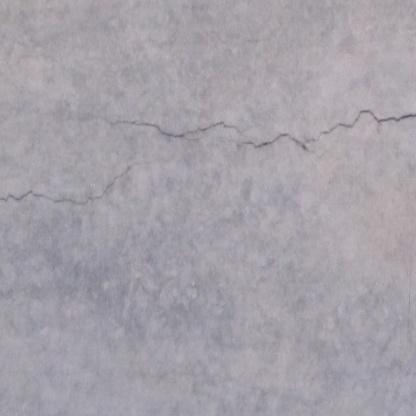Cracks: (0, 166, 134, 211), (318, 106, 416, 139), (114, 117, 243, 142), (242, 131, 311, 154)
